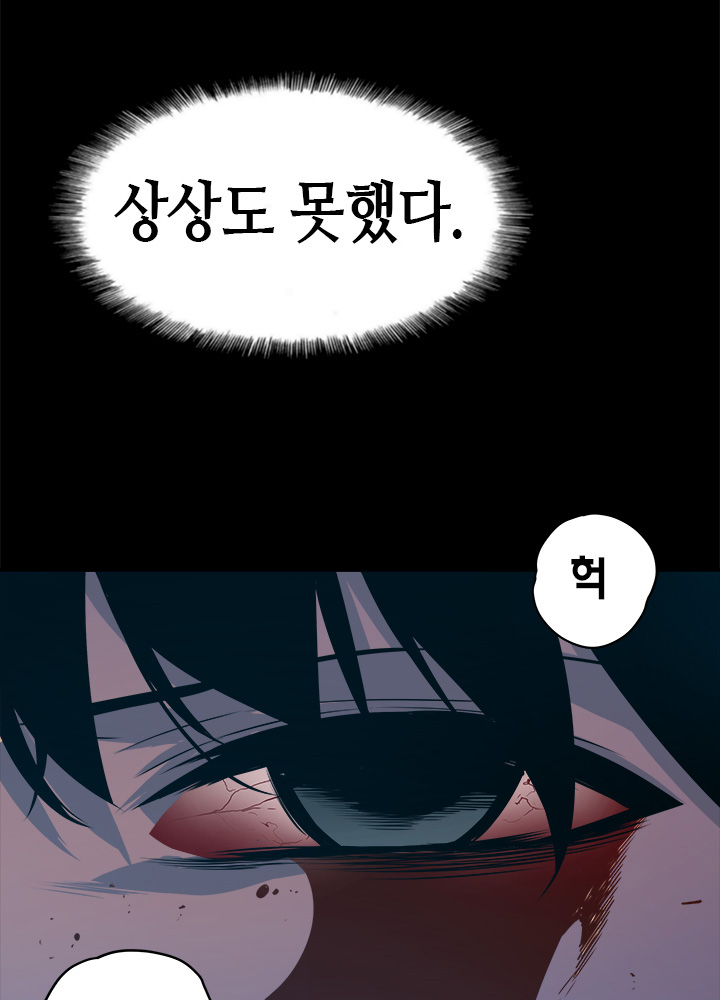dialog box: (36, 60, 549, 382), (510, 497, 672, 662), (25, 928, 232, 1000)
text: (94, 146, 481, 289), (554, 542, 628, 621)
